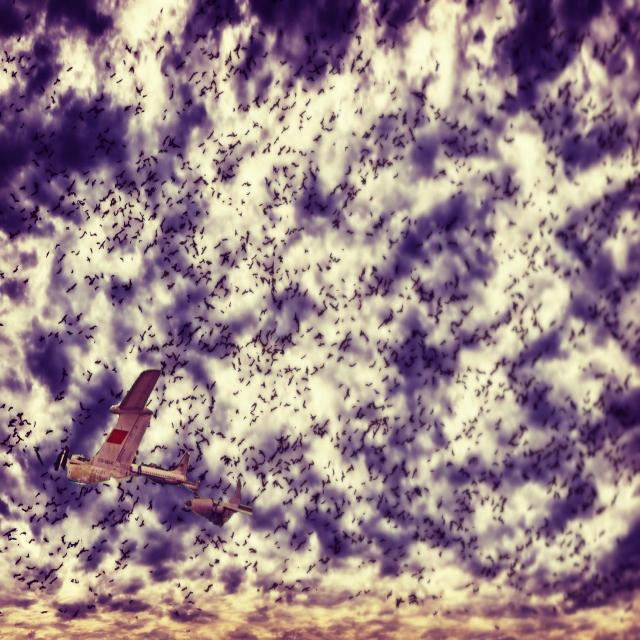airplane: (55, 368, 199, 493), (181, 477, 253, 528)
